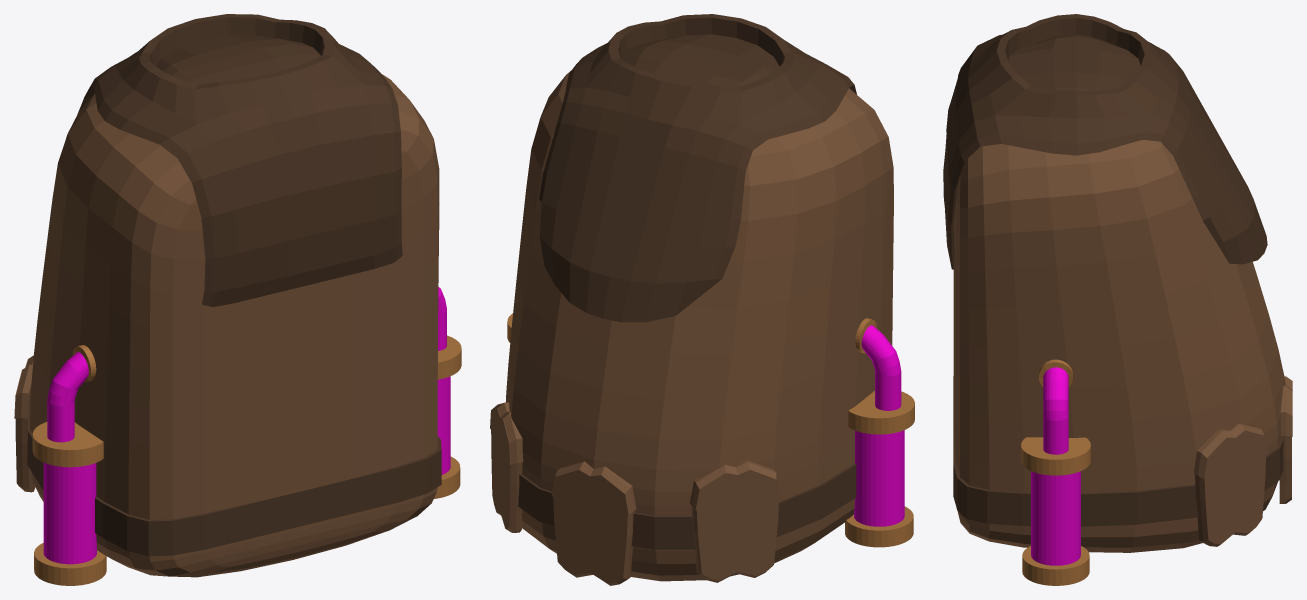
File: Bag.fbx
3 views of the same model, side by side, from view 1: azimuth 30°, elevation 25°; view 2: azimuth 150°, elevation 25°; view 3: azimuth 270°, elevation 25° (orthographic). The views are drawn at different scales.
Visible parts, largest first — view 1: Cube.002, Cube.003, Cylinder, Cube.004, Cube.005; view 2: Cube.002, Cube.003, Cube.005, Cylinder, Cube.006, Cube.004; view 3: Cube.002, Cube.003, Cylinder, Cube.004, Cube.005, Cube.006.
Boxes of the visible parts, bbox=[...] form: Cube.002: bbox=[30, 74, 439, 577]; Cube.003: bbox=[77, 14, 402, 307]; Cylinder: bbox=[32, 287, 461, 585]; Cube.004: bbox=[27, 428, 441, 556]; Cube.005: bbox=[14, 355, 35, 492]; Cube.002: bbox=[505, 70, 893, 581]; Cube.003: bbox=[539, 14, 856, 322]; Cube.005: bbox=[490, 402, 780, 582]; Cylinder: bbox=[507, 313, 914, 547]; Cube.006: bbox=[551, 461, 636, 585]; Cube.004: bbox=[518, 463, 856, 549]; Cube.002: bbox=[953, 140, 1285, 552]; Cube.003: bbox=[943, 14, 1267, 269]; Cylinder: bbox=[1021, 359, 1090, 585]; Cube.004: bbox=[953, 376, 1283, 526]; Cube.005: bbox=[1193, 423, 1267, 546]; Cube.006: bbox=[1279, 376, 1292, 503].
Bounding box in the file's own units: 586 × 662 × 456.
